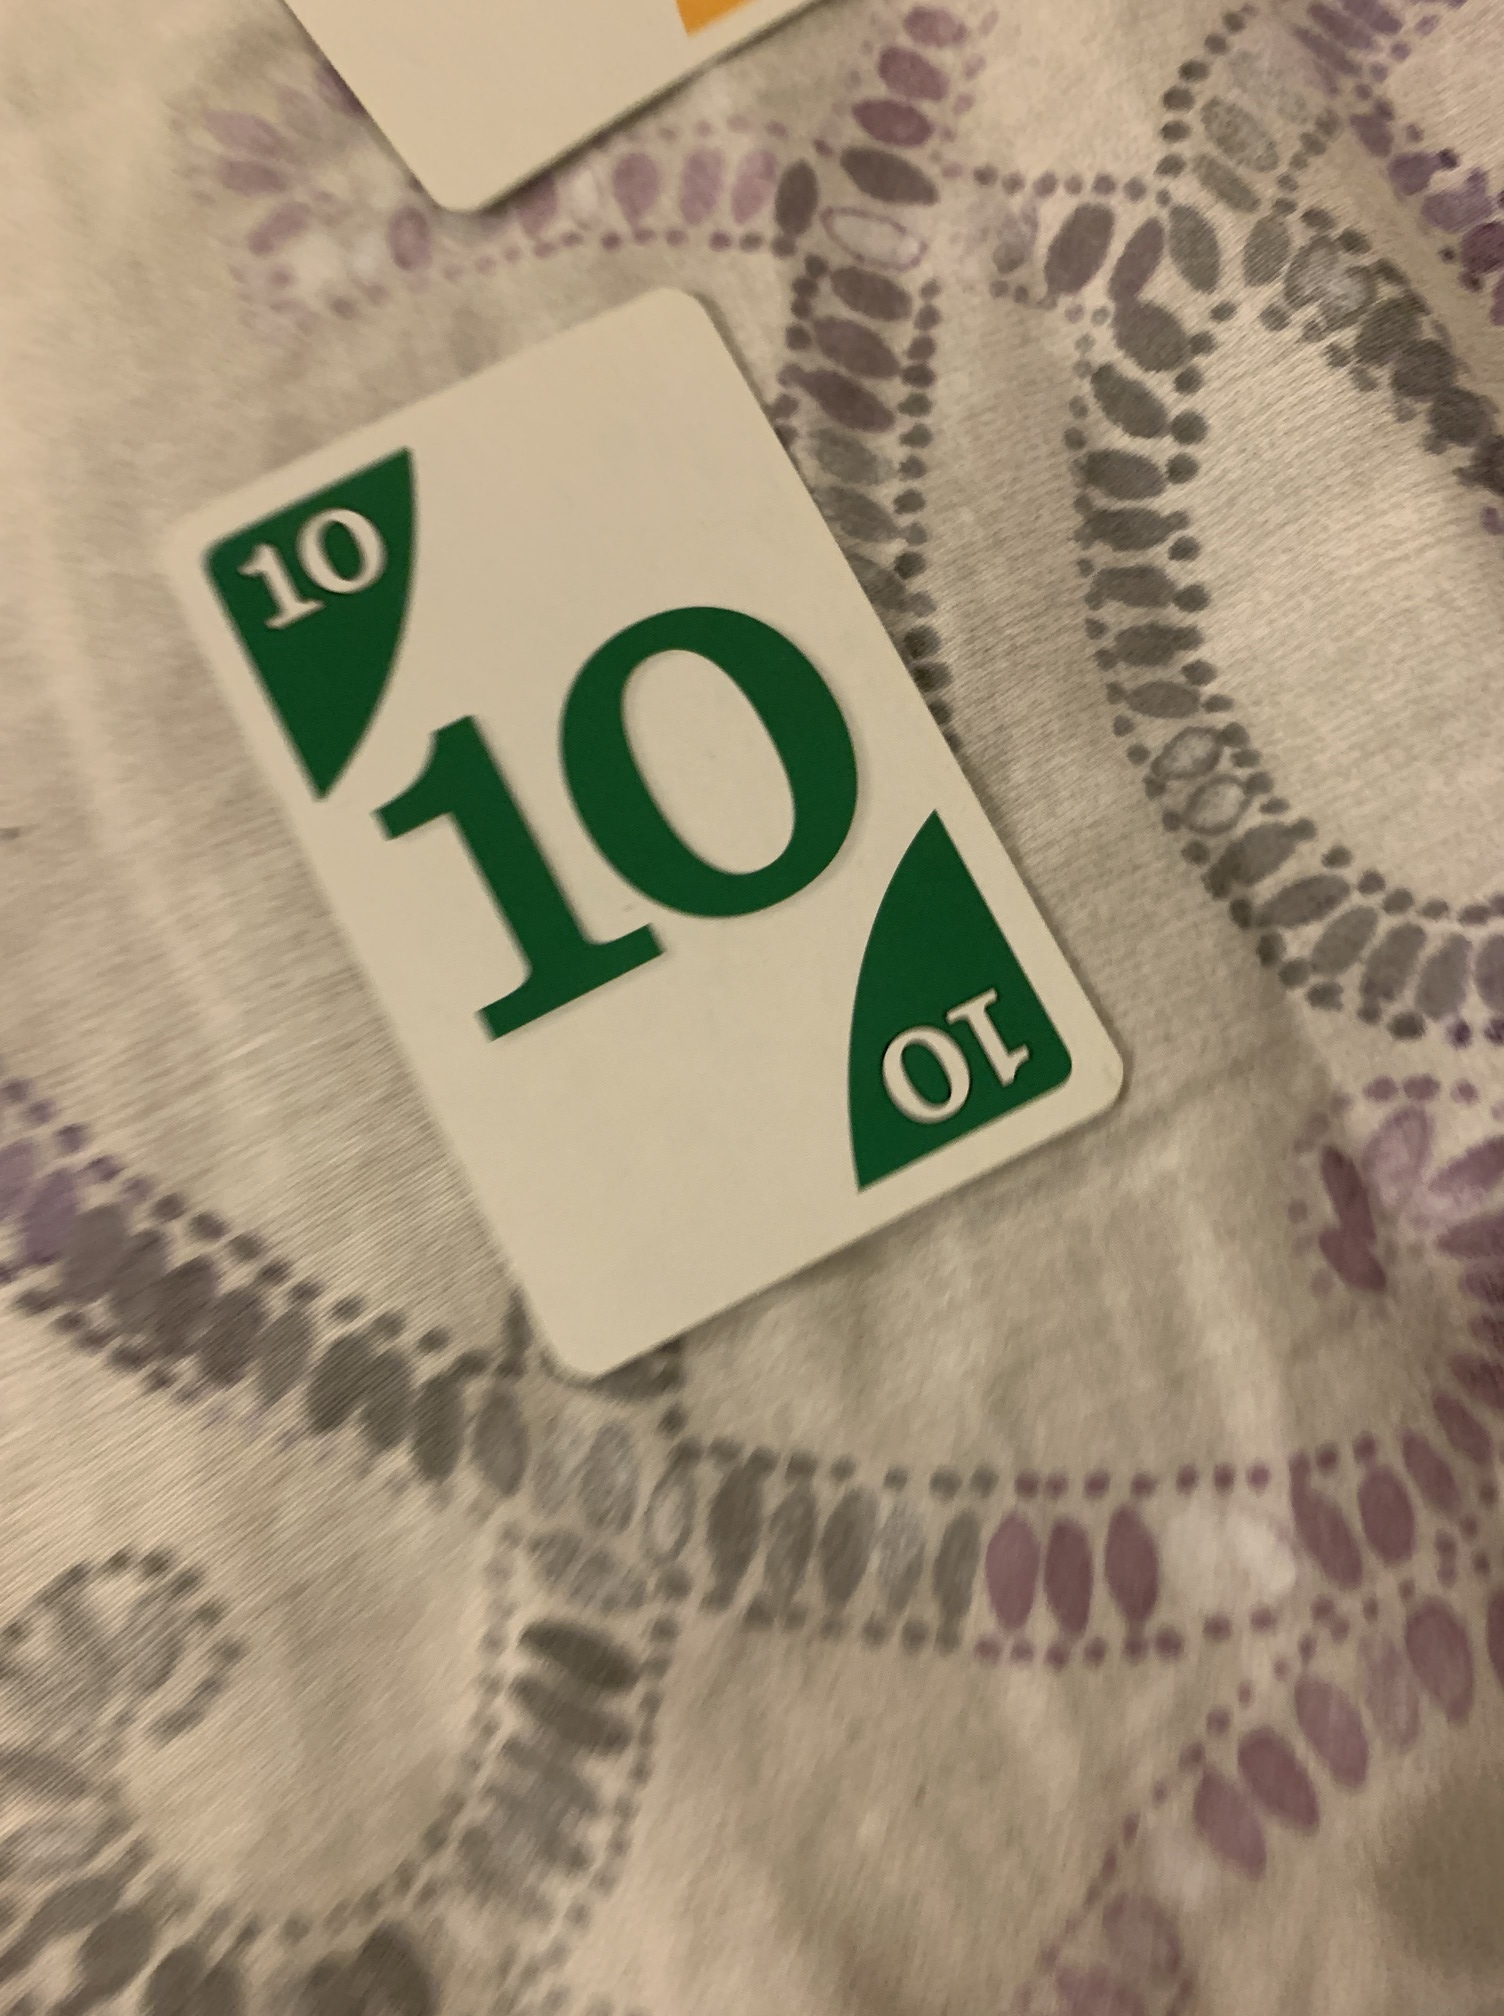ten: (175, 286, 1130, 1386)
